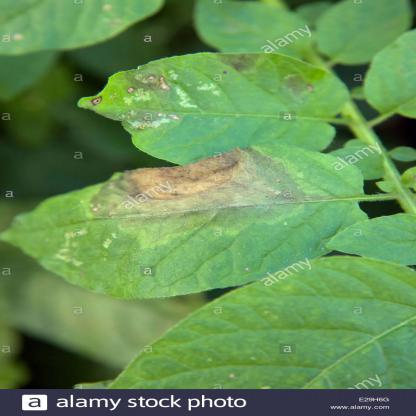potato leaf late blight: (5, 141, 381, 302), (71, 49, 362, 167)
